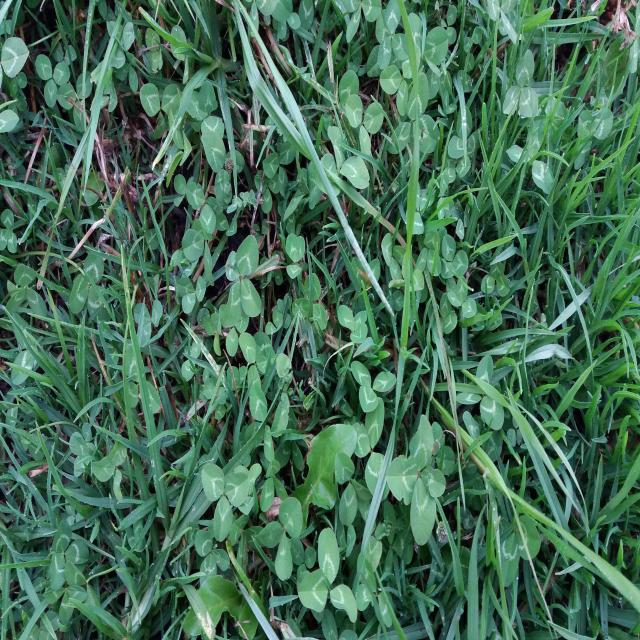Four Leaf Clover: (386, 414, 446, 546), (223, 235, 261, 328)
